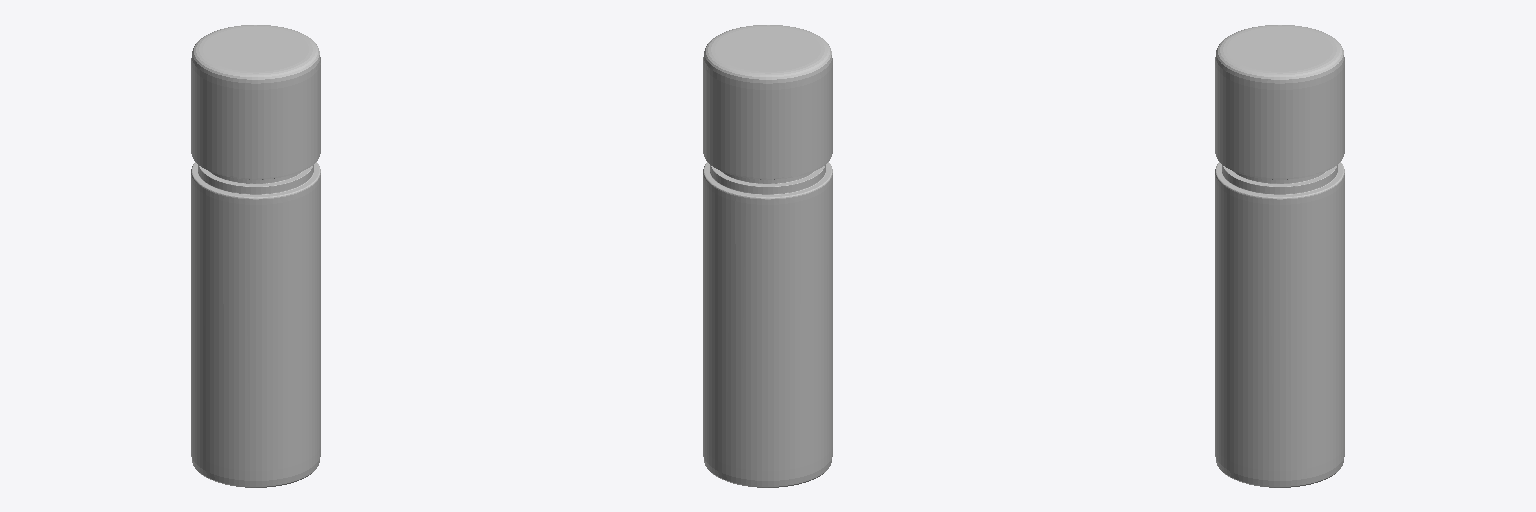
The model's file is small.obj.
3 views of the same model, side by side, from view 1: azimuth 30°, elevation 25°; view 2: azimuth 150°, elevation 25°; view 3: azimuth 270°, elevation 25° (orthographic).
Parts seen in each view (by area): view 1: nalepka, Cylinder002, Cylinder001; view 2: nalepka, Cylinder002, Cylinder001; view 3: nalepka, Cylinder002, Cylinder001.
Boxes of the visible parts, x1,y1,x2,y2 form: nalepka: [191, 181, 320, 470]; Cylinder002: [191, 25, 320, 179]; Cylinder001: [191, 162, 320, 487]; nalepka: [703, 181, 832, 470]; Cylinder002: [703, 25, 832, 179]; Cylinder001: [703, 162, 832, 487]; nalepka: [1215, 181, 1344, 470]; Cylinder002: [1215, 25, 1344, 179]; Cylinder001: [1215, 162, 1344, 487].
Bounding box in the file's own units: 0.2942 × 1.03 × 0.2942.